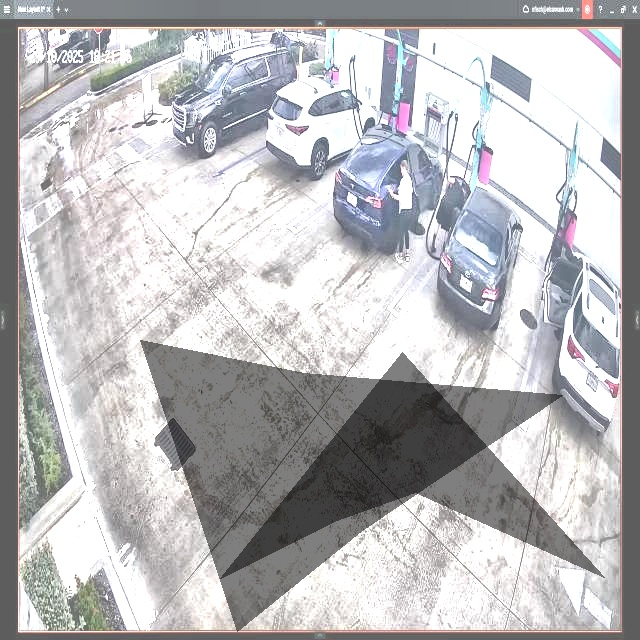Car: (335, 121, 444, 246), (440, 175, 521, 334), (266, 76, 378, 176)
